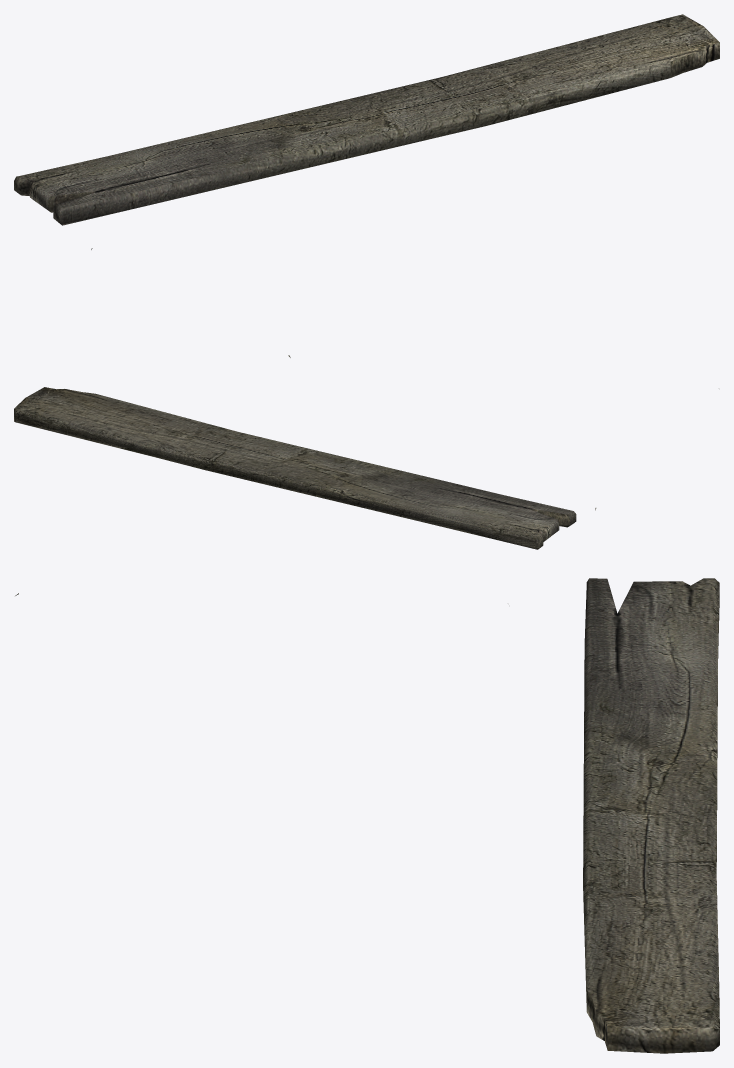
File: Wood Planks_01.fbx
3 views of the same model, one above another, from view 1: azimuth 30°, elevation 25°; view 2: azimuth 150°, elevation 25°; view 3: azimuth 270°, elevation 25° (orthographic). The views are drawn at different scales.
Parts seen in each view (by area): view 1: Plank01-04; view 2: Plank01-04; view 3: Plank01-04.
Boxes of the visible parts, <box> form: Plank01-04: <box>14,14,719,357</box>; Plank01-04: <box>14,387,596,549</box>; Plank01-04: <box>15,578,719,1053</box>.
Size of the model in its own units: 25919 by 775 by 17021.
1 material, 1 textured.
